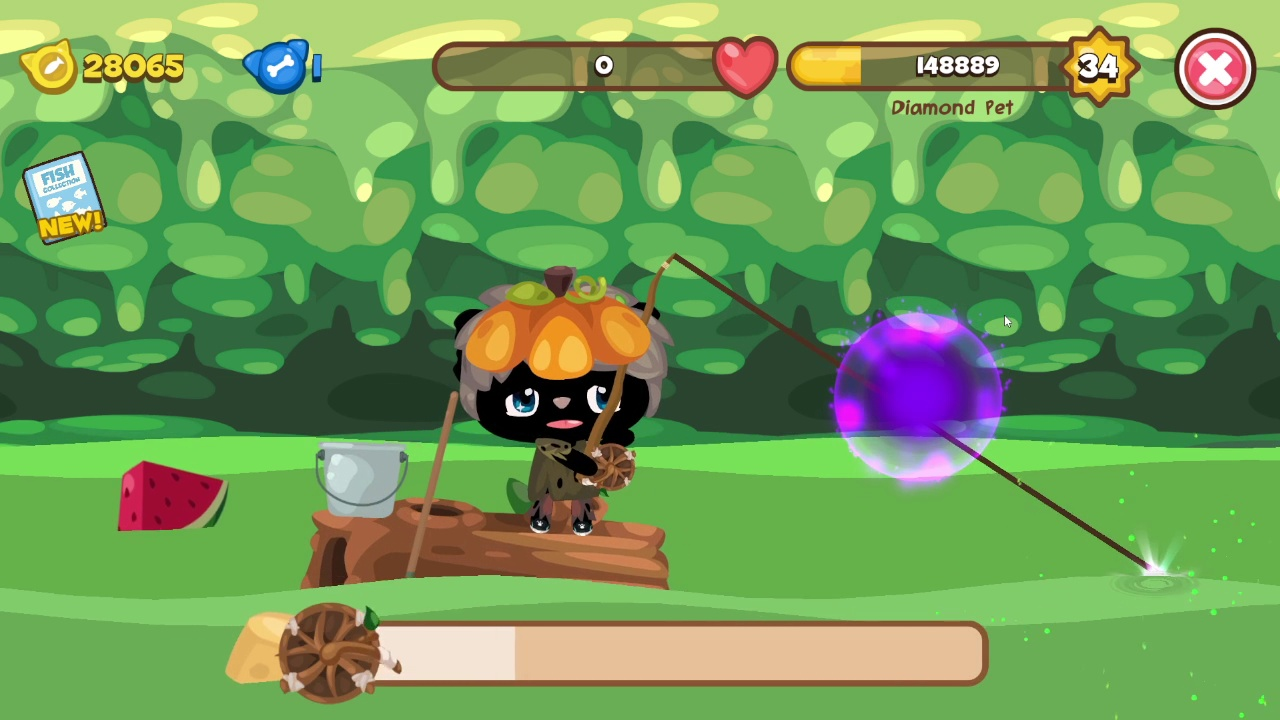point: (832, 312, 1006, 485)
